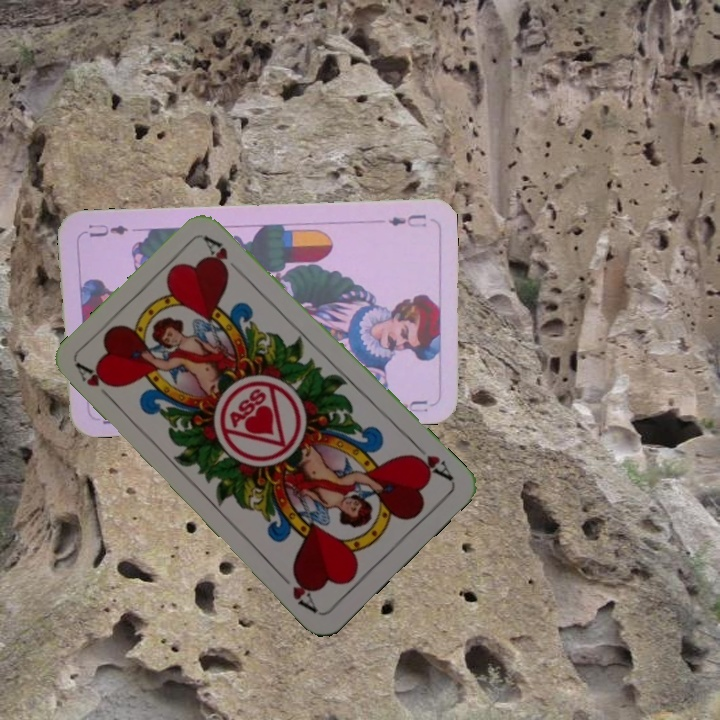EU: (384, 210, 429, 230)
HA: (406, 437, 456, 484), (73, 359, 119, 407)
